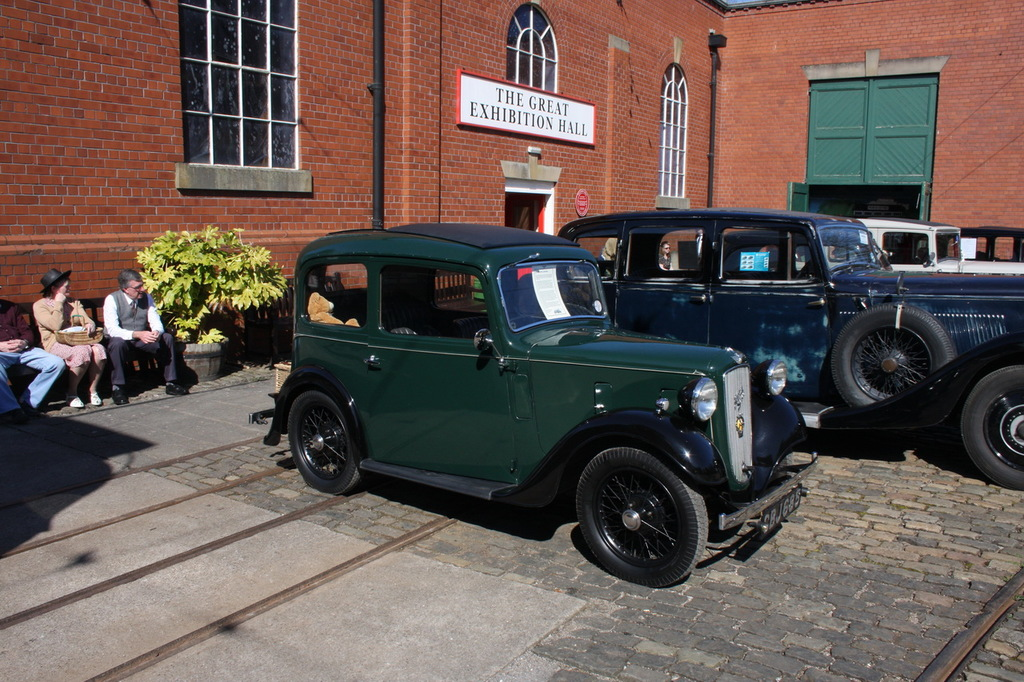Car: (551, 207, 1023, 489), (857, 213, 1020, 273), (956, 229, 1022, 269)
